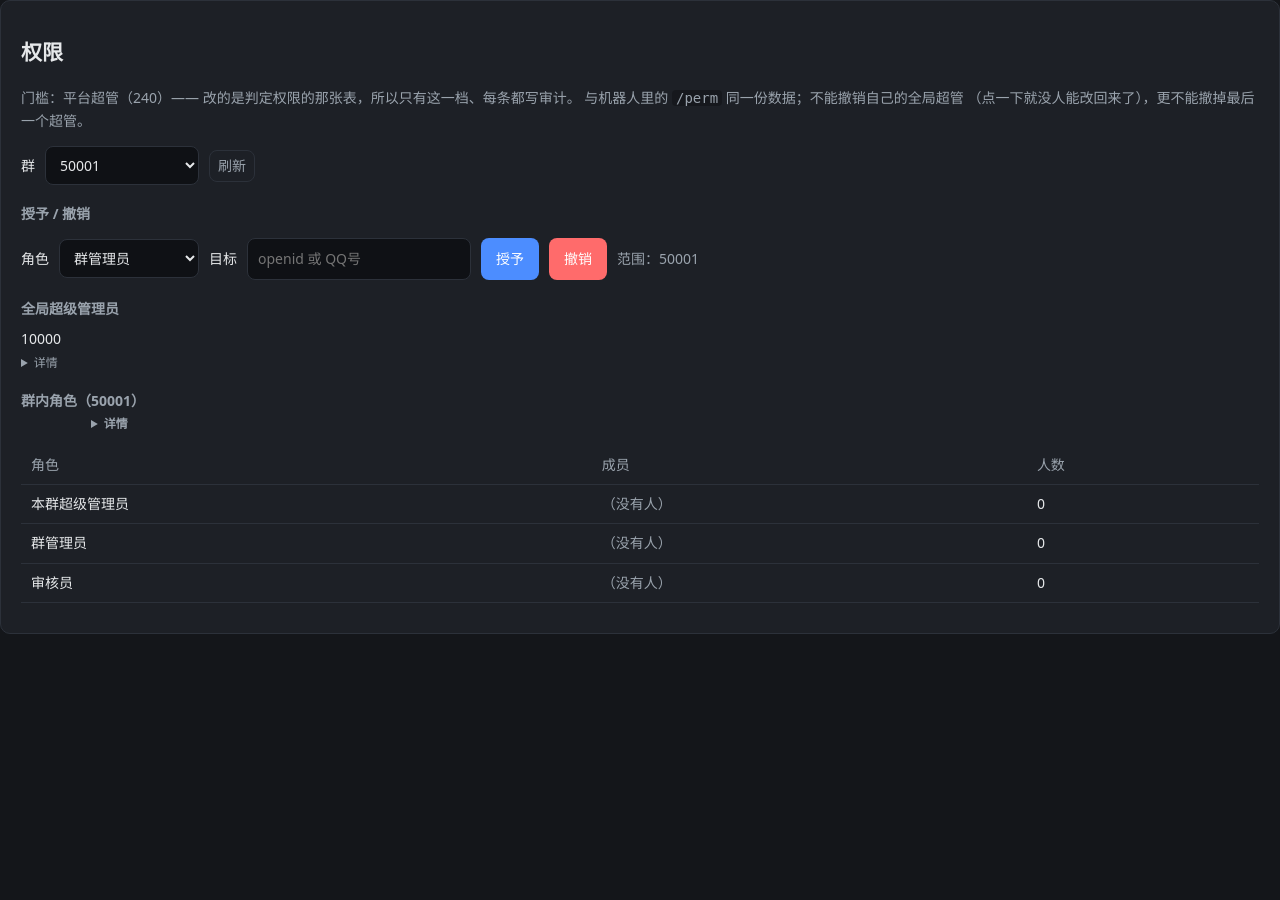
it: PermissionsView › 平台超管：列出全局与群内角色，授予要先二次确认再发请求
Expected: the dropdown labelled "群" shows "50001", x1=45 y1=146 x2=199 y2=185
Select "审核员" in the dropdown labelled "角色" at coordinates (129, 259), box x1=59 y1=239 x2=199 y2=278
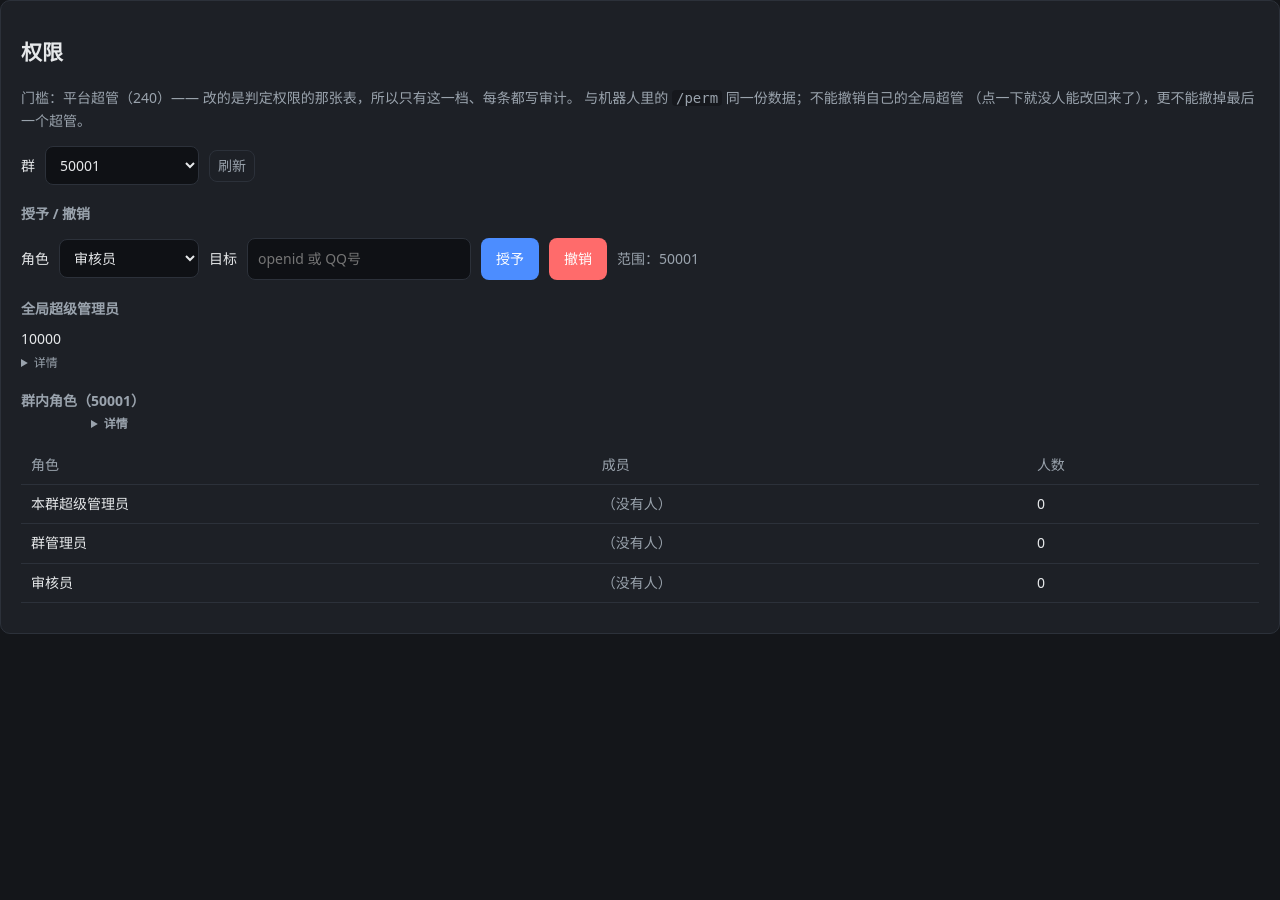
Type "10001" into the field labelled "目标".
click(359, 259); type("10001")  # box x1=247 y1=238 x2=471 y2=280
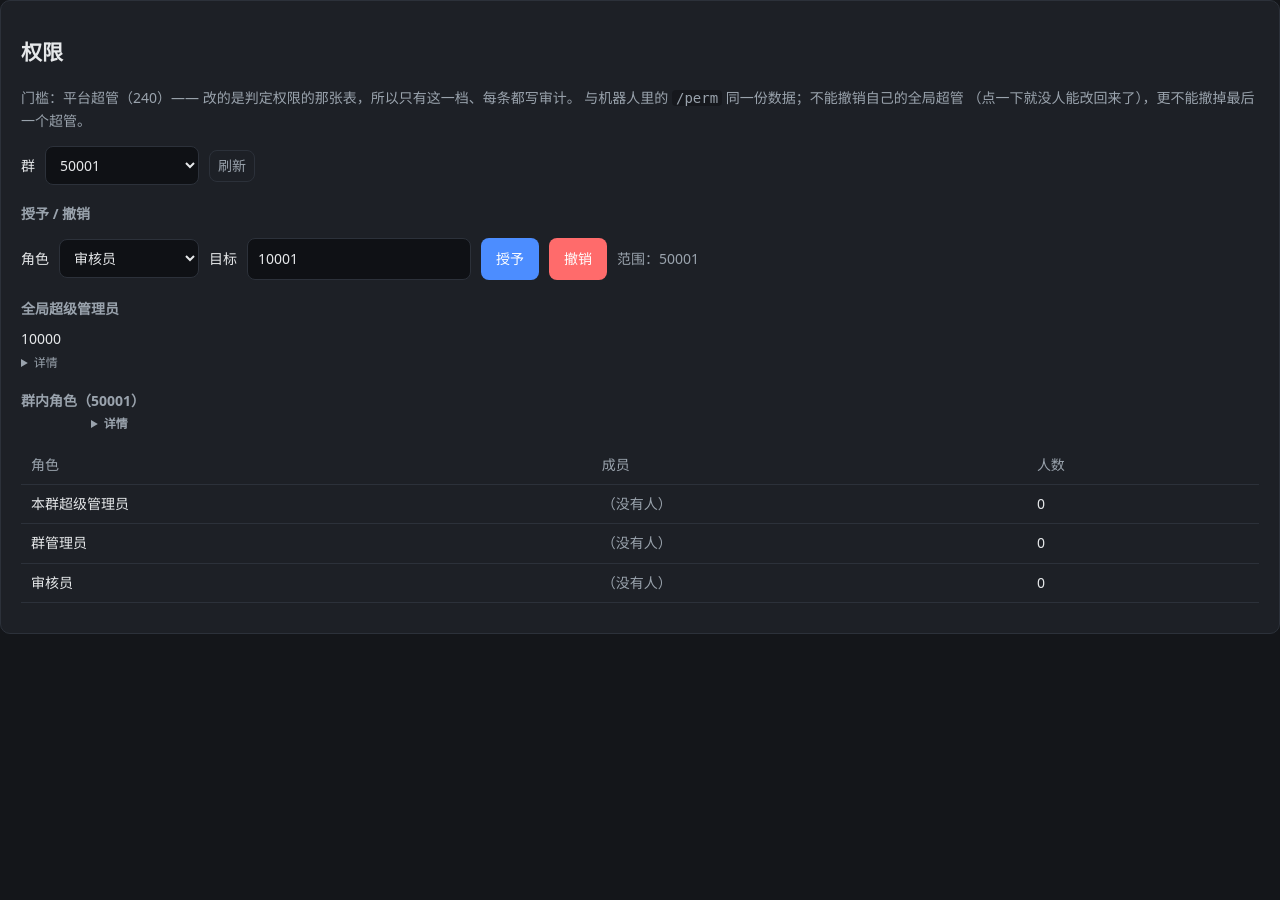
Click the button "授予".
click(510, 259)  # box x1=481 y1=238 x2=539 y2=280
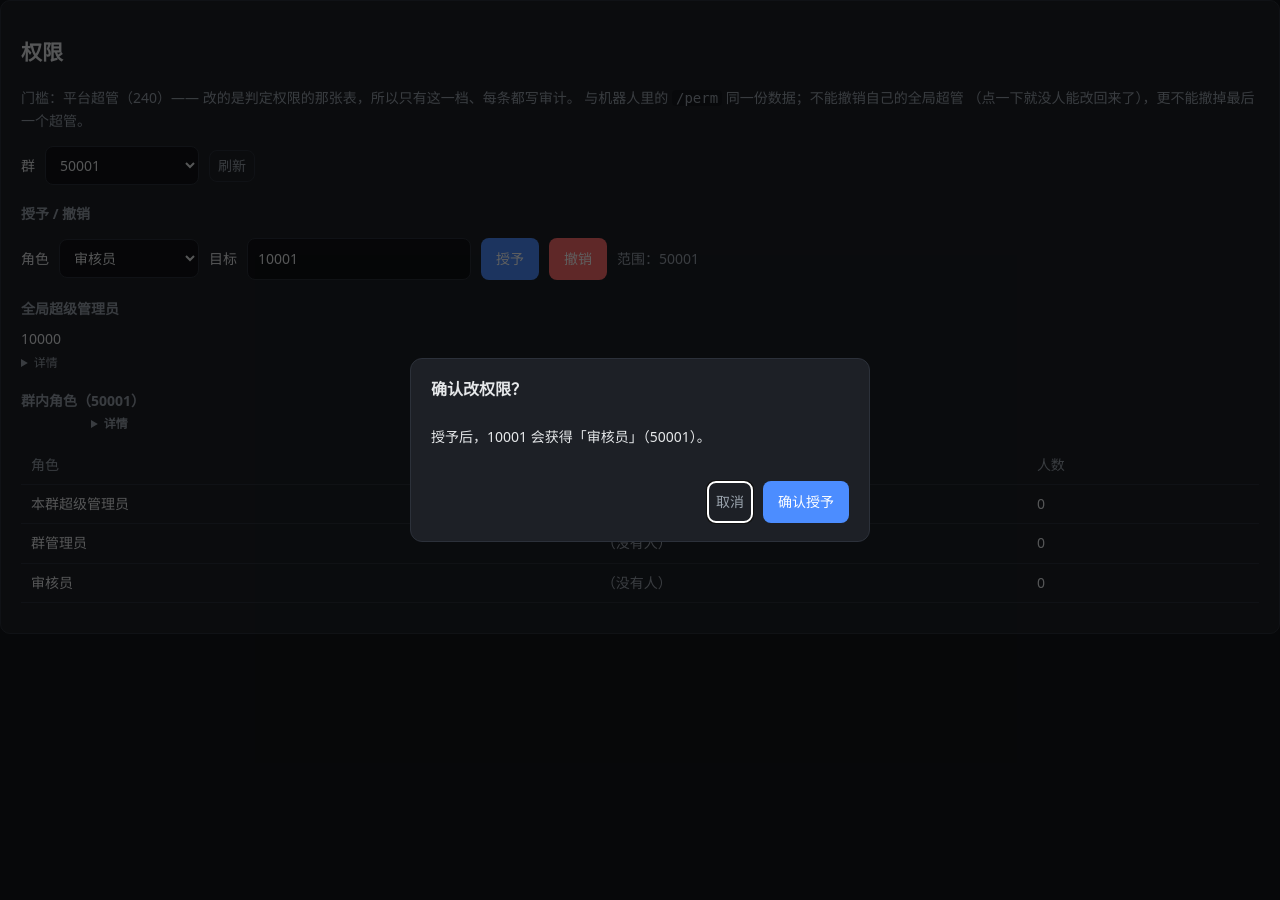
Expected: the text "审核员" is shown, x1=21 y1=563 x2=592 y2=603
Now the text "授予后" is shown, box x1=431 y1=427 x2=711 y2=446
Click the button "确认授予".
click(806, 502)  # box x1=763 y1=481 x2=849 y2=523
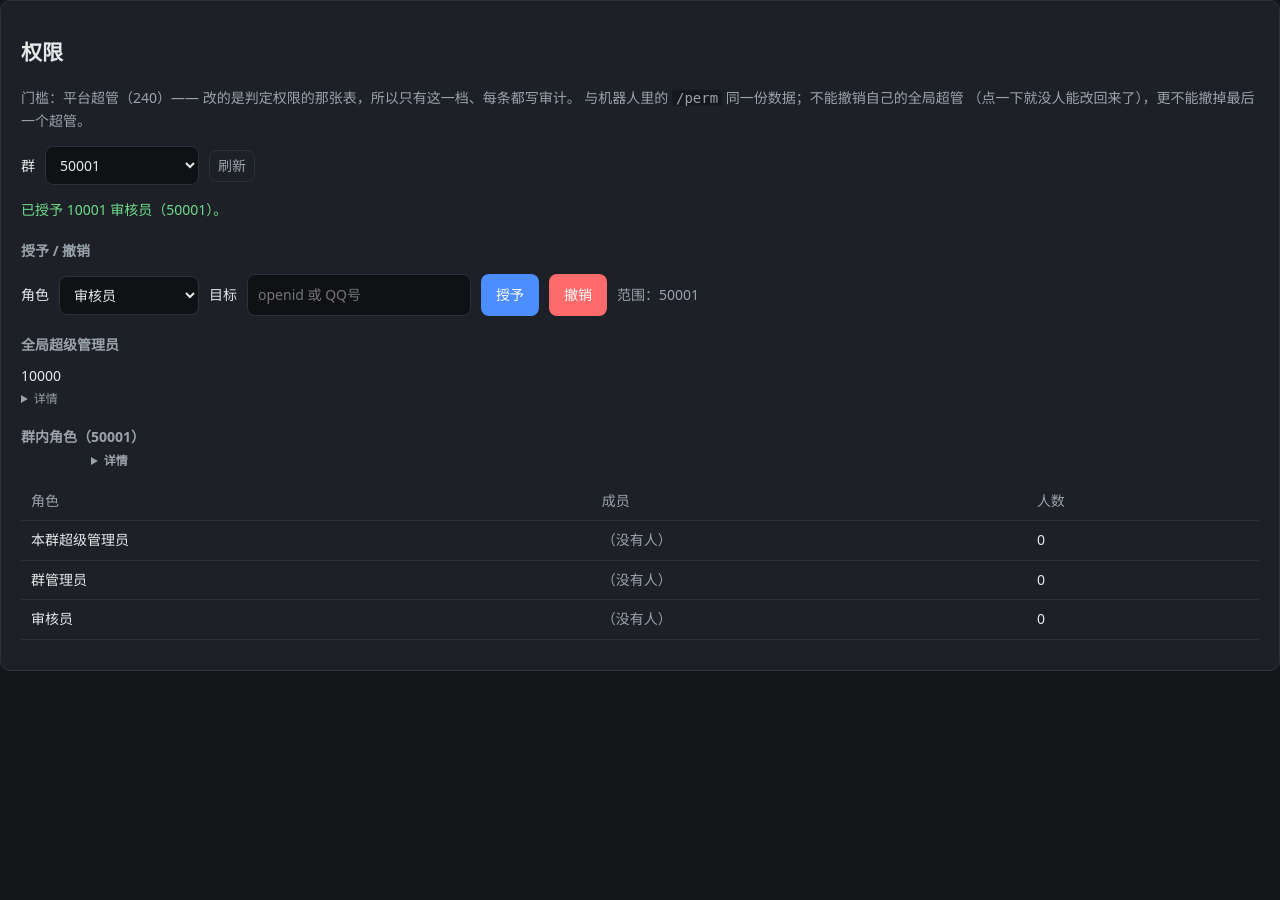
Now the text "已授予 10001 审核员（50001）。" is shown, box x1=21 y1=200 x2=227 y2=219
